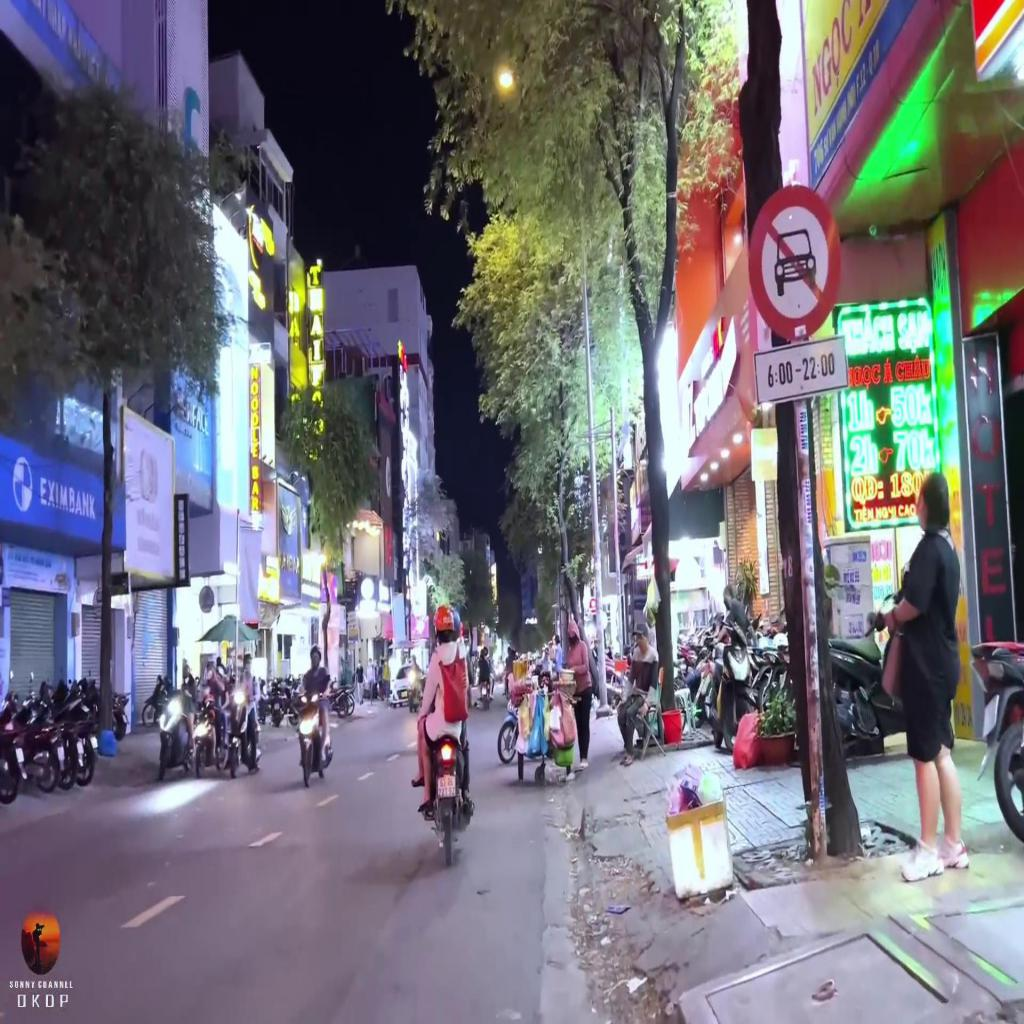cam_o_to: (749, 183, 841, 341)
khac: (754, 336, 848, 404)
